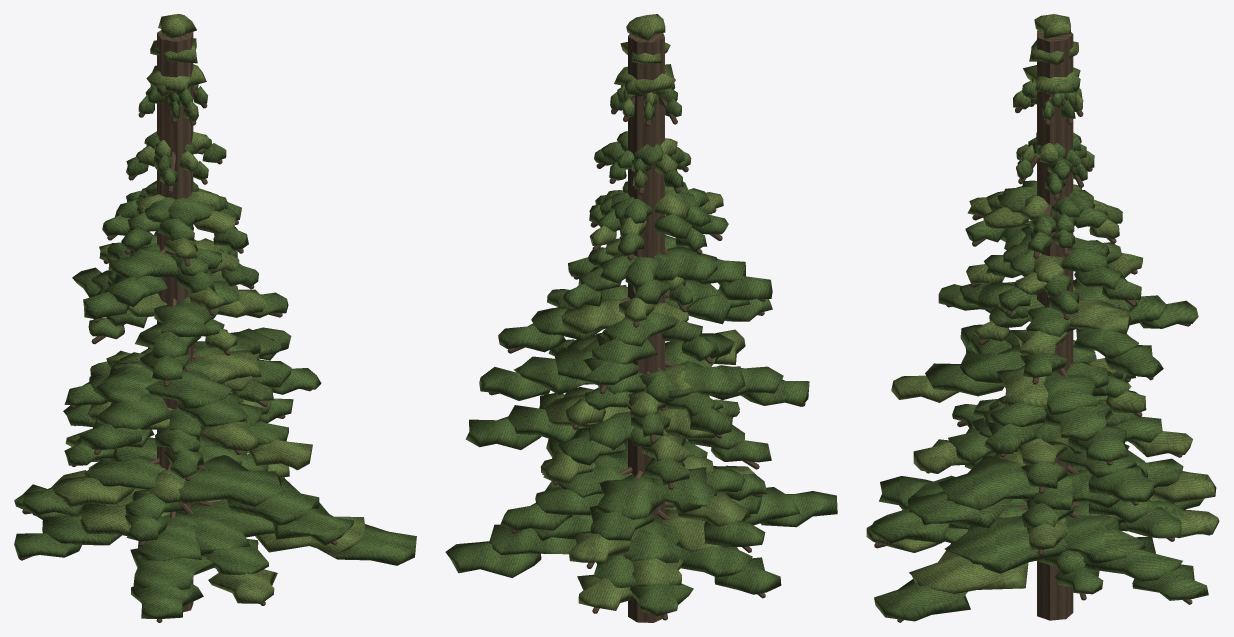
Rendered from pine_b.glb.
3 views of the same model, side by side, from view 1: azimuth 30°, elevation 25°; view 2: azimuth 150°, elevation 25°; view 3: azimuth 270°, elevation 25° (orthographic).
Visible parts, largest first — view 1: pine_b__Pine_needles, pine_b__Sunlit_pine_tips, pine_b__Dark_endgrain; view 2: pine_b__Pine_needles, pine_b__Sunlit_pine_tips, pine_b__Dark_endgrain; view 3: pine_b__Pine_needles, pine_b__Sunlit_pine_tips, pine_b__Dark_endgrain.
Boxes of the visible parts, x1,y1,x2,y2 form: pine_b__Pine_needles: [14, 84, 416, 618]; pine_b__Sunlit_pine_tips: [51, 14, 365, 603]; pine_b__Dark_endgrain: [19, 30, 337, 622]; pine_b__Pine_needles: [445, 79, 837, 616]; pine_b__Sunlit_pine_tips: [540, 14, 755, 610]; pine_b__Dark_endgrain: [488, 33, 805, 622]; pine_b__Pine_needles: [870, 74, 1208, 621]; pine_b__Sunlit_pine_tips: [866, 14, 1219, 593]; pine_b__Dark_endgrain: [874, 30, 1210, 622].
Size of the model in its own units: 1.69 by 3.05 by 1.63.
Materials: 3 (3 with a texture image).
